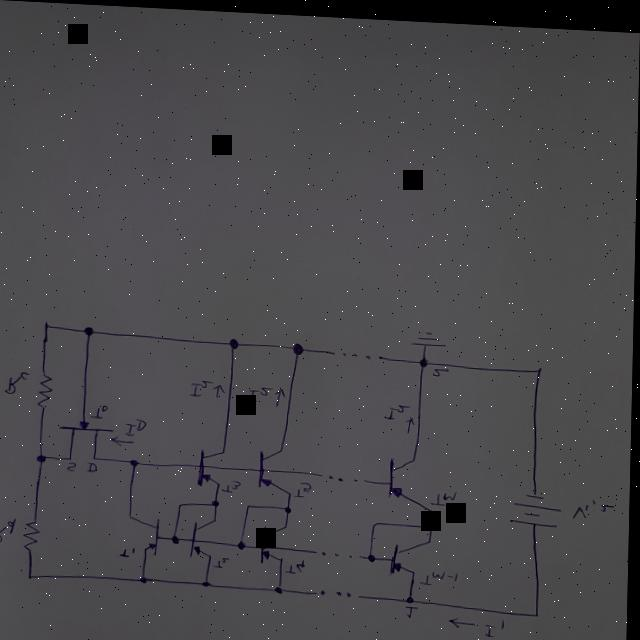ground: (411, 326, 448, 344)
junction: (292, 338, 308, 355), (228, 335, 242, 349), (417, 353, 432, 365), (84, 325, 97, 337), (37, 453, 50, 464), (367, 549, 379, 560), (238, 538, 248, 549), (276, 583, 286, 593), (534, 605, 544, 615), (173, 533, 182, 544), (536, 360, 547, 369), (131, 458, 141, 467), (212, 497, 222, 506), (285, 503, 295, 512), (204, 578, 213, 587), (43, 321, 52, 330), (429, 518, 438, 527), (141, 575, 151, 583), (28, 573, 38, 581), (407, 592, 417, 600), (178, 500, 186, 507), (373, 517, 381, 524), (247, 501, 254, 507)
resistor: (37, 371, 56, 410), (23, 518, 44, 553)
source: (509, 485, 566, 524)
text: (420, 559, 466, 586), (572, 491, 618, 516), (384, 395, 416, 420), (6, 370, 32, 395), (248, 382, 277, 404), (487, 609, 510, 636), (431, 485, 463, 504), (189, 376, 216, 397), (0, 517, 19, 545), (125, 416, 150, 437), (284, 556, 310, 575), (214, 553, 233, 570), (298, 478, 315, 496), (223, 477, 243, 492), (93, 403, 111, 419), (122, 545, 138, 558), (434, 363, 452, 374), (407, 601, 420, 614), (88, 461, 100, 472), (68, 461, 79, 472)
transistor: (382, 451, 441, 510), (62, 418, 117, 463), (257, 441, 297, 495), (388, 536, 434, 576), (129, 508, 168, 555), (194, 445, 229, 489), (257, 520, 290, 564), (189, 517, 220, 559)
